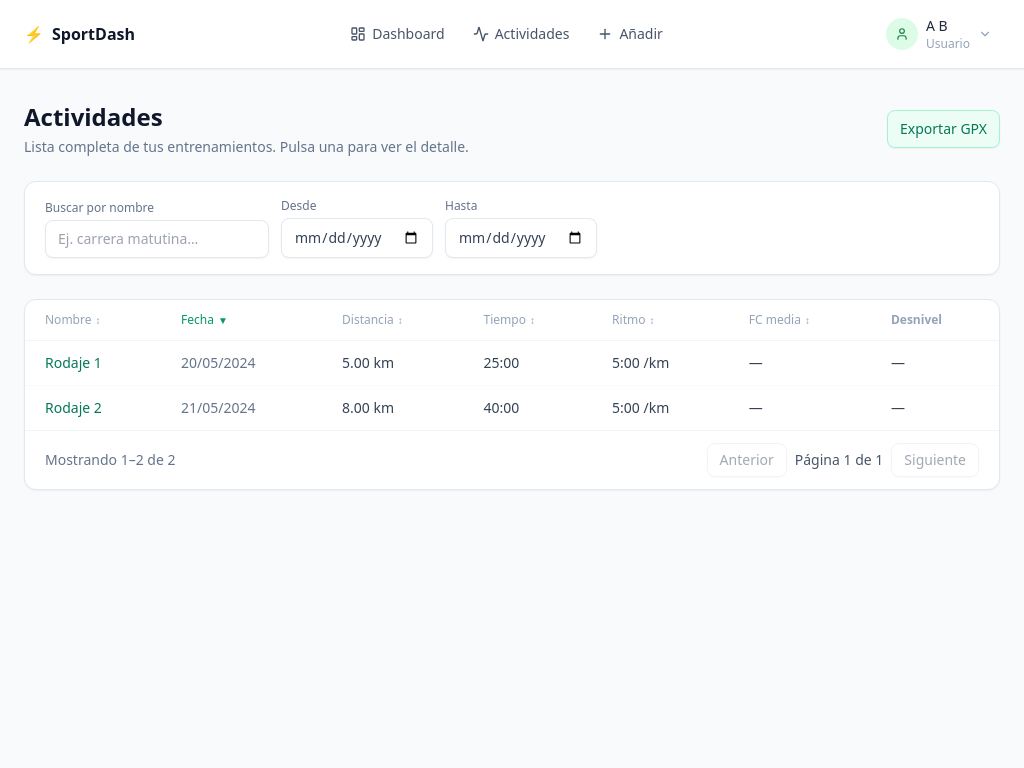
it: ActivitiesPage — modo selección y exportación GPX › no muestra checkboxes hasta entrar en modo selección
expect the link "Rodaje 1" is shown: met, box [45,353,102,372]
Click the button "Exportar GPX": (944, 129) [887,110,1000,148]
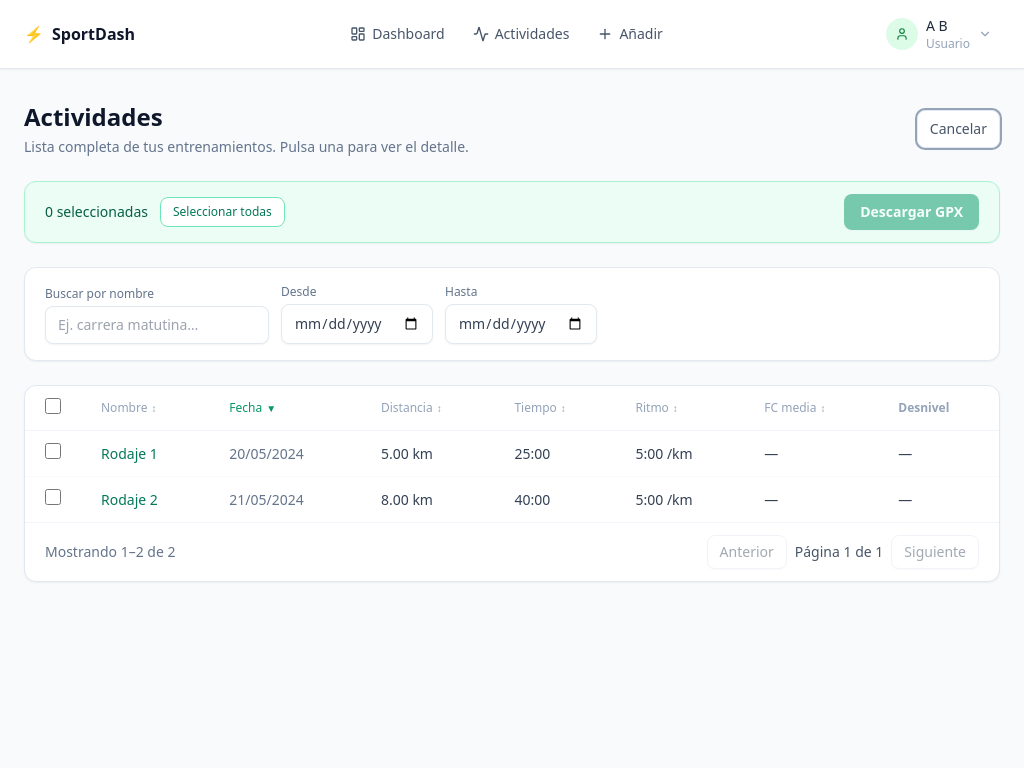
expect the number of checkboxes named "Seleccionar actividad" is 2: met, box [45,443,61,459]; [45,489,61,505]
